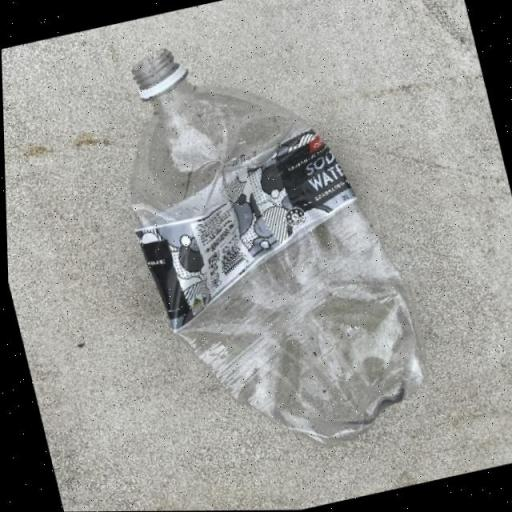plastic: (90, 6, 440, 476)
